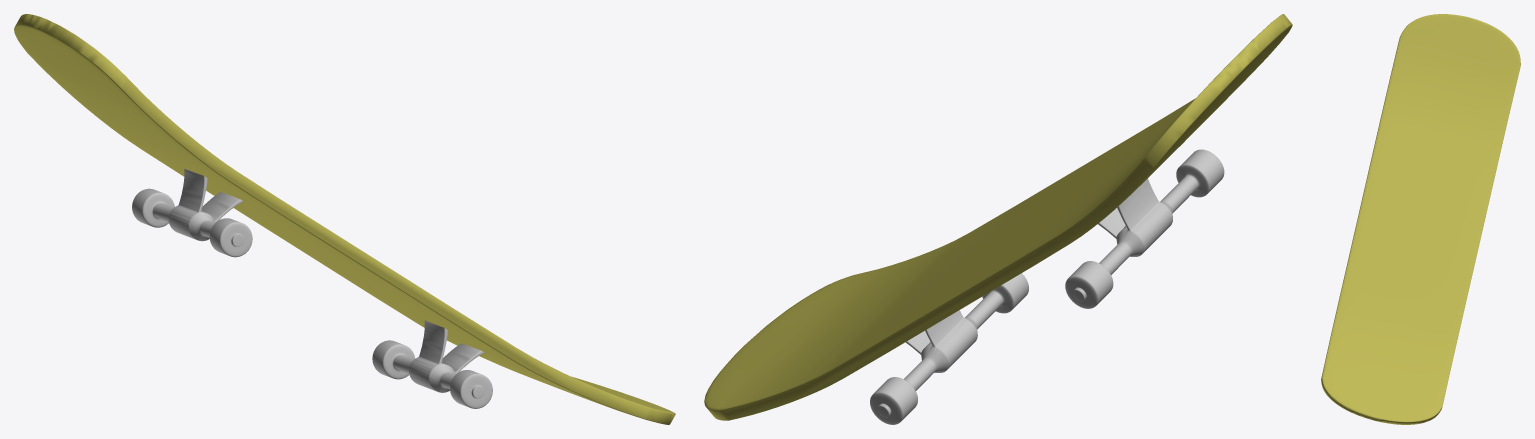
The model's file is Skate.fbx.
3 renders of one model, left to right at view 1: azimuth 30°, elevation 25°; view 2: azimuth 150°, elevation 25°; view 3: azimuth 270°, elevation 25°, orthographic. The views are drawn at different scales.
Visible parts, largest first — view 1: Skate; view 2: Skate; view 3: Skate.
Part boxes in pixels (x1,y1,x2,y2): Skate: [14, 14, 675, 424]; Skate: [704, 14, 1292, 424]; Skate: [1321, 14, 1520, 424].
Size of the model in its own units: 13.63 by 11.6 by 7.8.
